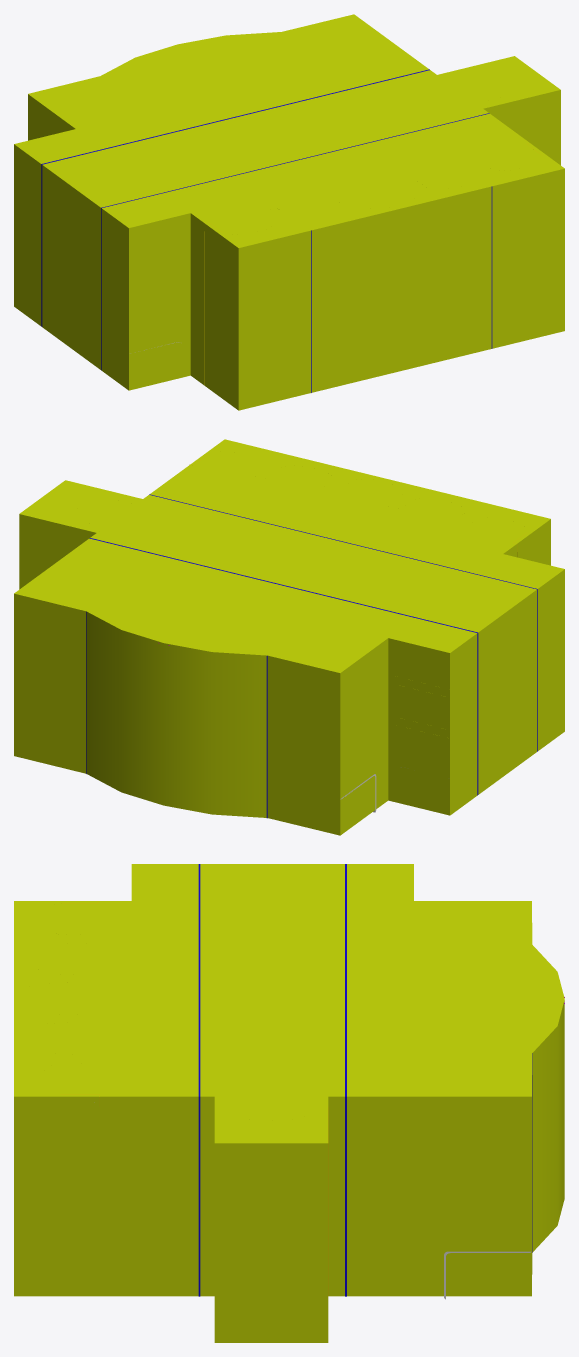
The picture shows the model from 3 angles, top to bottom: view 1: azimuth 30°, elevation 25°; view 2: azimuth 150°, elevation 25°; view 3: azimuth 270°, elevation 25°; orthographic projection. The views are drawn at different scales.
Visible parts, largest first — view 1: base; view 2: base; view 3: base.
Part boxes in pixels (<box>): base: <box>14,14,564,410</box>; base: <box>14,439,564,835</box>; base: <box>14,864,564,1342</box>.
Bounding box in the file's own units: 12 × 4.07 × 10.
